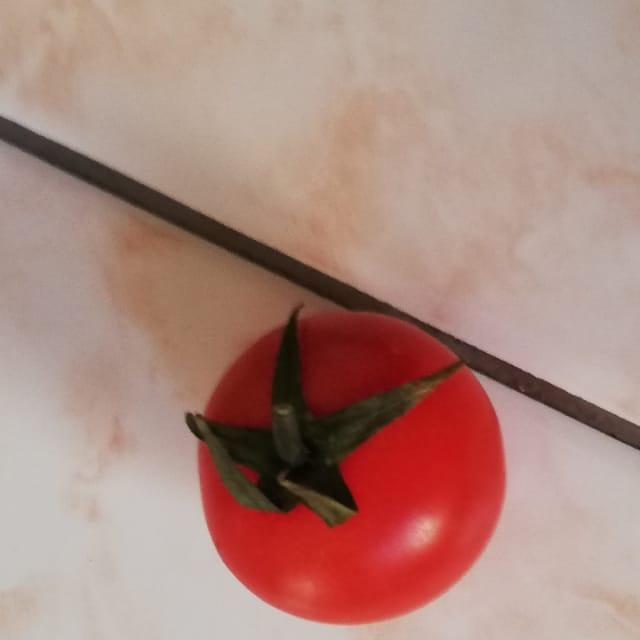tomato: (178, 262, 514, 637)
